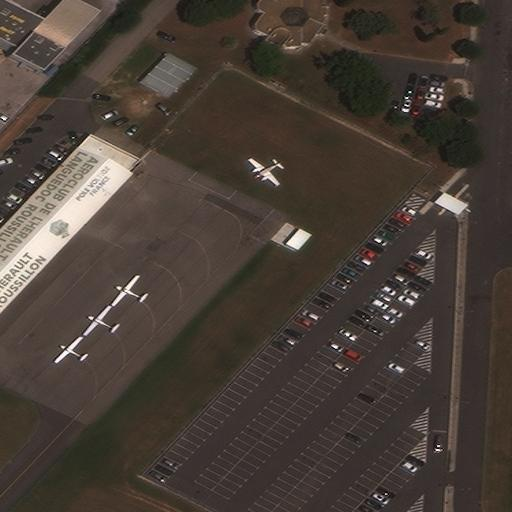Small Civil Transport: (81, 305, 116, 334), (111, 275, 145, 304), (247, 159, 280, 186), (53, 336, 85, 361)
